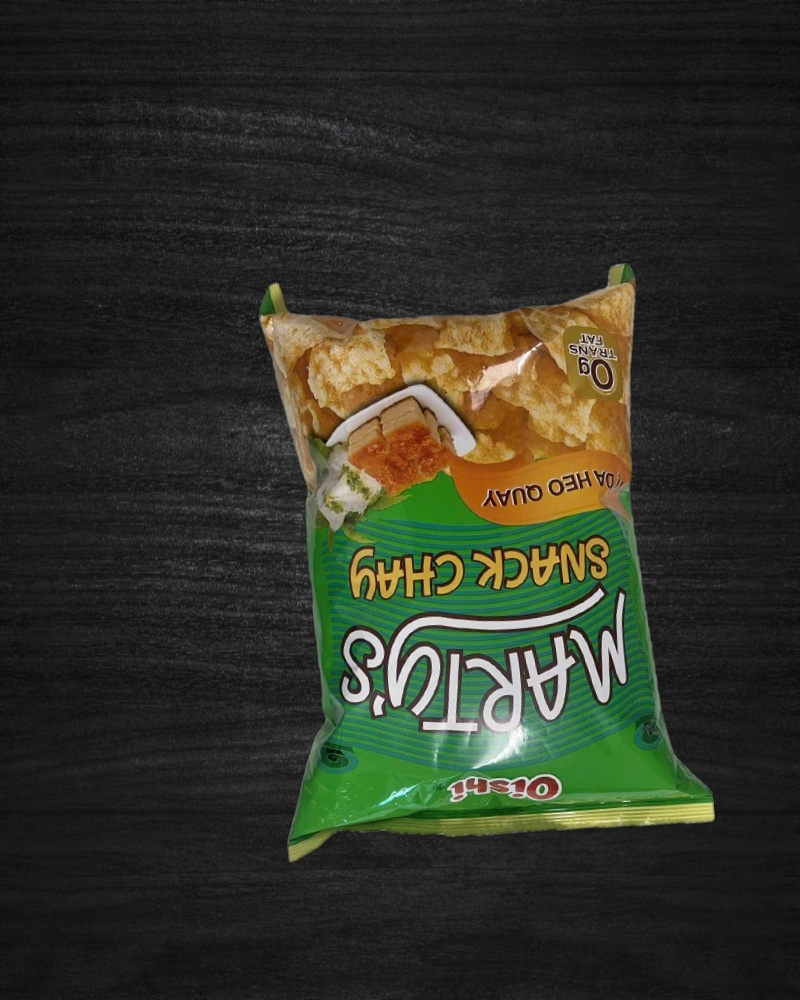Snack chay: (259, 250, 715, 862)
